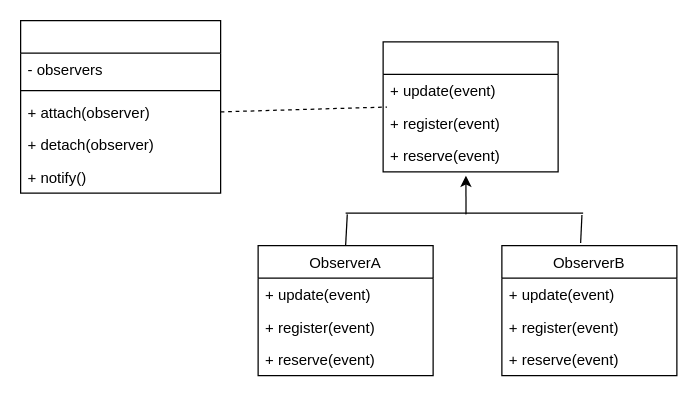
The diagram is 698 pixels wide and 396 high, and some of its shapes have lost their labels. Each missing label, with the box of its shape:
Event: (19, 19, 221, 193)
Observer: (382, 41, 558, 172)
